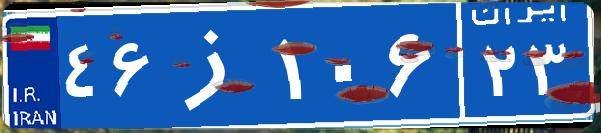0: (330, 28, 385, 110)
1: (273, 28, 330, 110)
2: (475, 38, 525, 113)
3: (525, 38, 570, 115)
4: (57, 26, 110, 107)
6: (385, 28, 445, 110), (110, 28, 158, 105)
ز: (158, 15, 273, 115)
